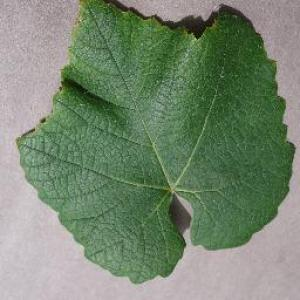Folha: (16, 0, 296, 285)
